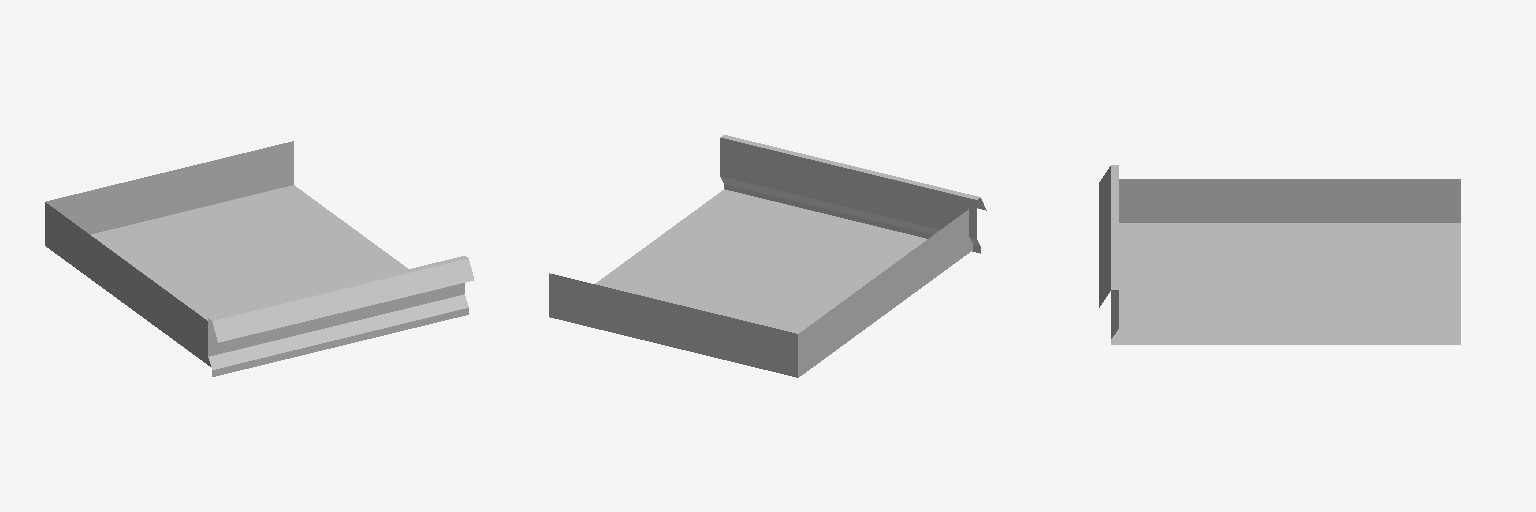
Rendered from original-18.obj.
The picture shows the model from 3 angles: view 1: azimuth 30°, elevation 25°; view 2: azimuth 150°, elevation 25°; view 3: azimuth 270°, elevation 25°; orthographic projection.
Parts seen in each view (by area): view 1: Component_4_2/Component_4_1_2/mesh14/mesh14-geometry#mesh14-geom; view 2: Component_4_2/Component_4_1_2/mesh14/mesh14-geometry#mesh14-geom; view 3: Component_4_2/Component_4_1_2/mesh14/mesh14-geometry#mesh14-geom.
Part boxes in pixels (x1,y1,x2,y2): Component_4_2/Component_4_1_2/mesh14/mesh14-geometry#mesh14-geom: (45,141,473,376); Component_4_2/Component_4_1_2/mesh14/mesh14-geometry#mesh14-geom: (549,135,986,377); Component_4_2/Component_4_1_2/mesh14/mesh14-geometry#mesh14-geom: (1099,165,1460,344).
Size of the model in its own units: 0.4189 by 0.0879 by 0.5109.